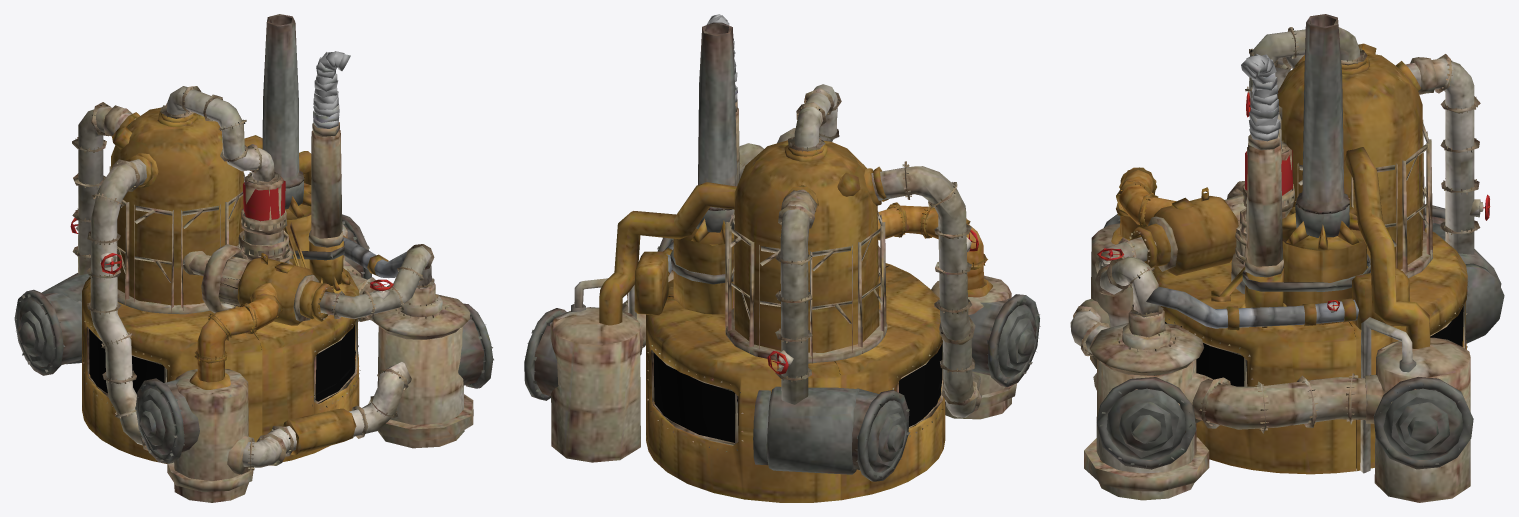
File: chemical-plant-west.glb
3 renders of one model, left to right at view 1: azimuth 30°, elevation 25°; view 2: azimuth 150°, elevation 25°; view 3: azimuth 270°, elevation 25°, orthographic. The views are drawn at different scales.
Parts seen in each view (by area): view 1: body; view 2: body; view 3: body.
Part boxes in pixels (x1,y1,x2,y2): body: [14, 14, 493, 502]; body: [524, 14, 1040, 502]; body: [1070, 14, 1504, 502].
Size of the model in its own units: 3.02 by 3.14 by 2.92.
1 material, 1 textured.
